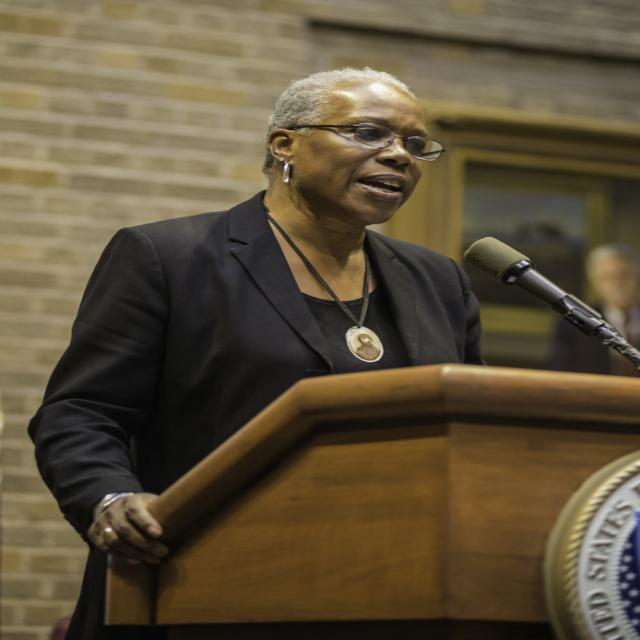Glasses: (298, 114, 441, 154)
